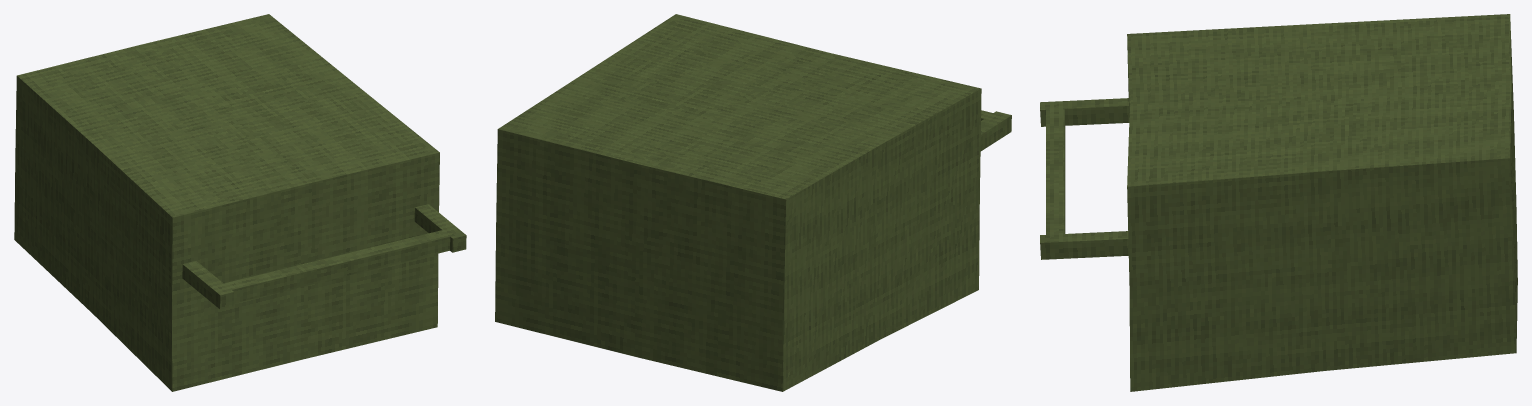
The model's file is pack_frame.glb.
3 views of the same model, side by side, from view 1: azimuth 30°, elevation 25°; view 2: azimuth 150°, elevation 25°; view 3: azimuth 270°, elevation 25° (orthographic). The views are drawn at different scales.
Parts seen in each view (by area): view 1: pack_worn_frame; view 2: pack_worn_frame; view 3: pack_worn_frame.
Part boxes in pixels (x1,y1,x2,y2): pack_worn_frame: (14,14,466,391); pack_worn_frame: (495,14,1011,391); pack_worn_frame: (1040,14,1517,391).
Size of the model in its own units: 0.3428 by 0.2409 by 0.4528.
1 material, 1 textured.
